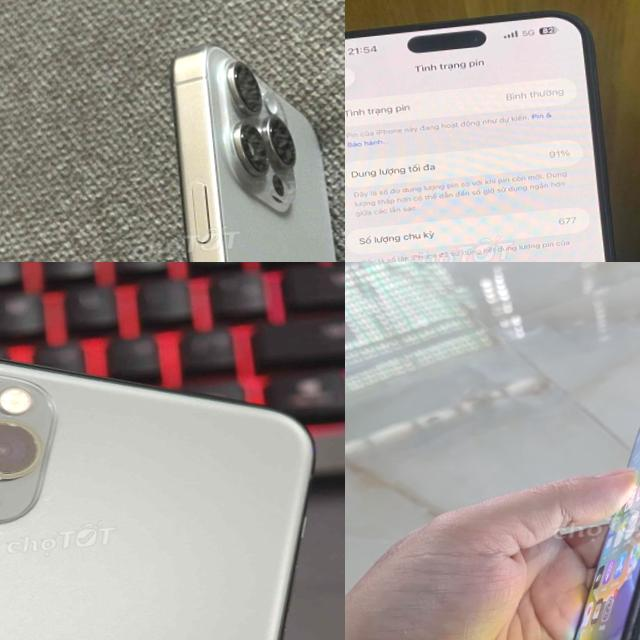scratch: (618, 618, 640, 640)
